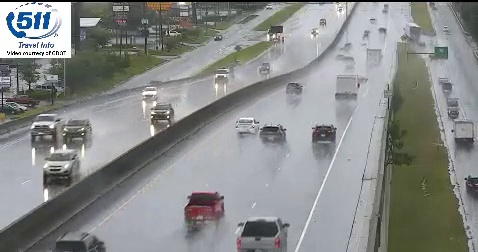car: (237, 218, 287, 252), (185, 192, 223, 219), (259, 125, 285, 144), (312, 124, 336, 141), (235, 118, 257, 135)
